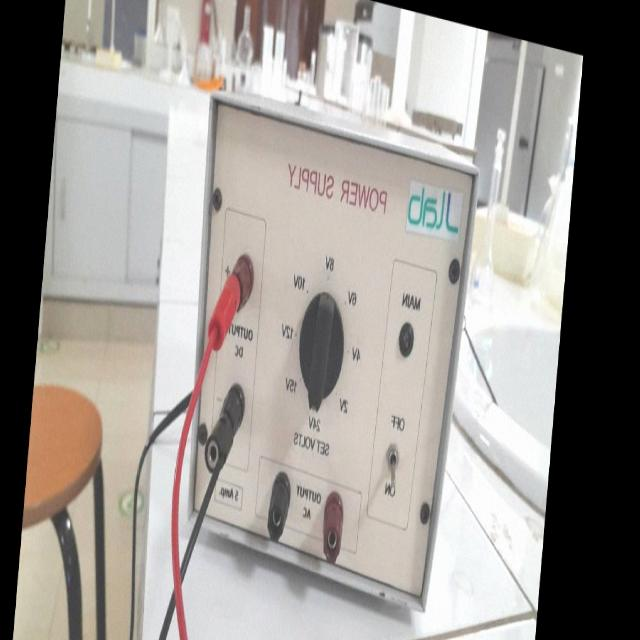Power Supply: (172, 87, 484, 615)
